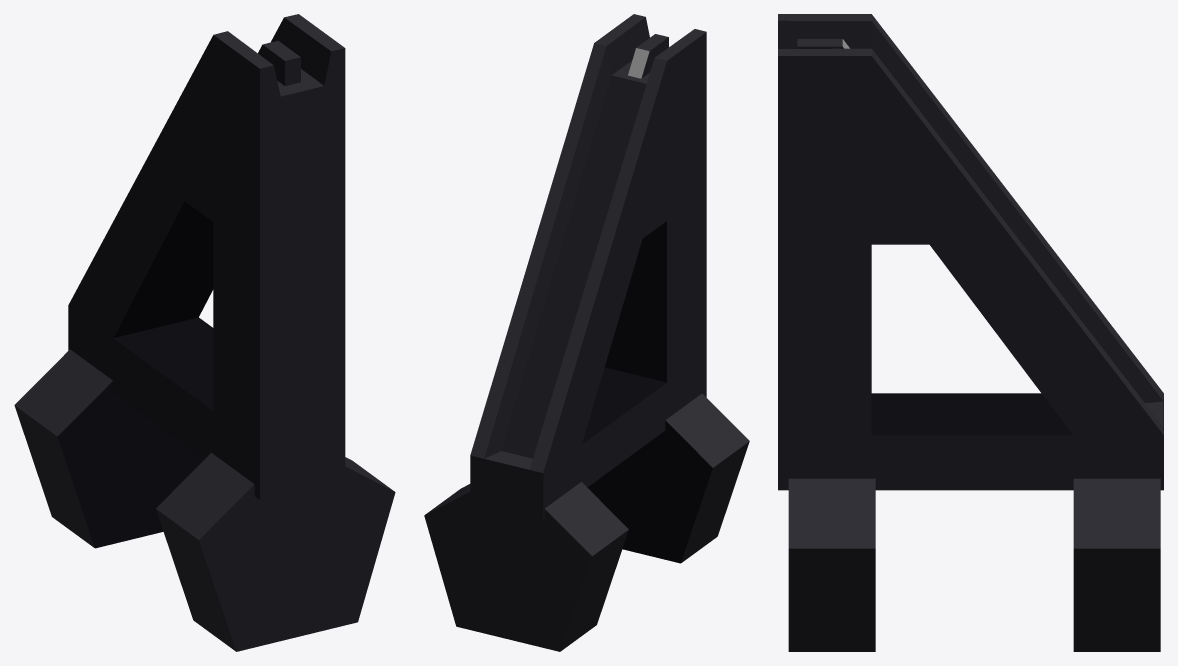
The model's file is MW1_IronSight_Front_5.56mmBarrel_01.fbx.
3 views of the same model, side by side, from view 1: azimuth 30°, elevation 25°; view 2: azimuth 150°, elevation 25°; view 3: azimuth 270°, elevation 25° (orthographic). The views are drawn at different scales.
Visible parts, largest first — view 1: IronSight_Front_5.56mmBarrel_01; view 2: IronSight_Front_5.56mmBarrel_01; view 3: IronSight_Front_5.56mmBarrel_01.
Boxes of the visible parts, box(x1,y1,x2,y2) form: IronSight_Front_5.56mmBarrel_01: box(14, 14, 395, 651); IronSight_Front_5.56mmBarrel_01: box(424, 14, 749, 651); IronSight_Front_5.56mmBarrel_01: box(778, 14, 1163, 651).
Bounding box in the file's own units: 1.98 × 5.62 × 3.35.
